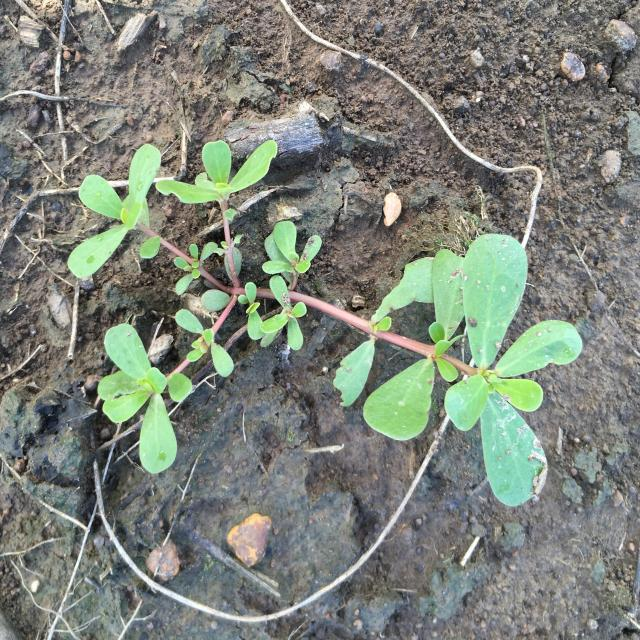Purslane: (68, 140, 583, 508)
